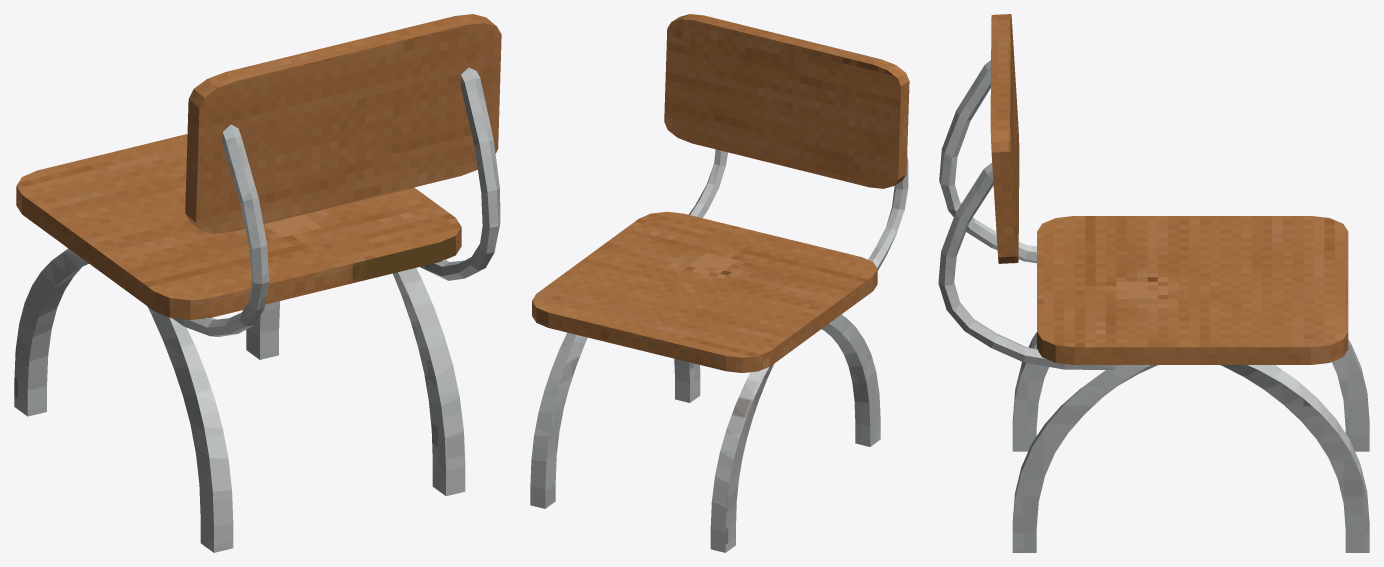
Rendered from Sedia_Rettangolo_1.fbx.
The picture shows the model from 3 angles, left to right: view 1: azimuth 30°, elevation 25°; view 2: azimuth 150°, elevation 25°; view 3: azimuth 270°, elevation 25°; orthographic projection. The views are drawn at different scales.
Parts seen in each view (by area): view 1: Cube.056; view 2: Cube.056; view 3: Cube.056.
Boxes of the visible parts, x1=… form: Cube.056: x1=14, y1=14, x2=501, y2=552; Cube.056: x1=530, y1=14, x2=909, y2=552; Cube.056: x1=938, y1=14, x2=1369, y2=552.
Bounding box in the file's own units: 0.7552 × 1.14 × 1.04.
Materials: 2 (2 with a texture image).
